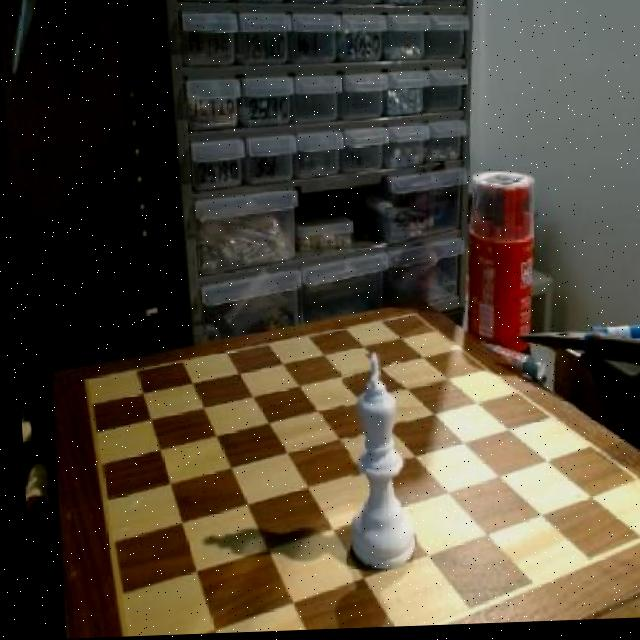white-bishop: (339, 355, 411, 575)
